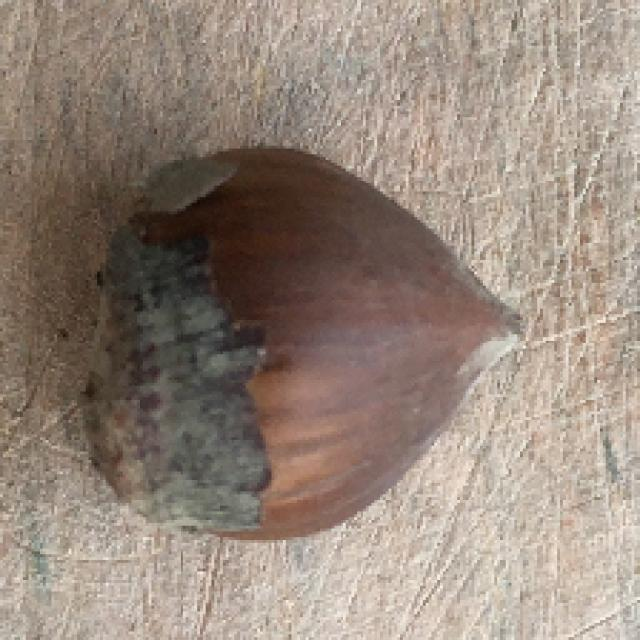DamagedHazelnut: (82, 150, 524, 542)
